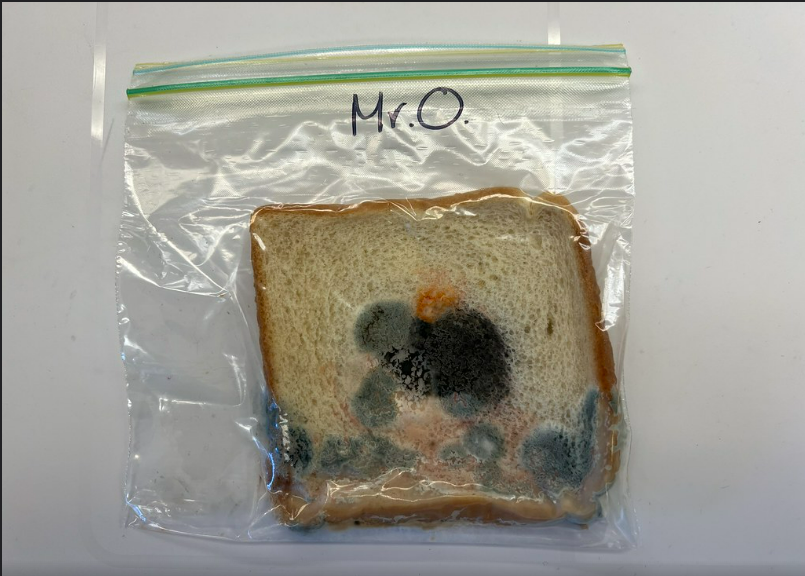mold_bread: (346, 287, 523, 421), (249, 389, 315, 501), (520, 422, 600, 508), (319, 431, 424, 486), (439, 427, 512, 493), (571, 380, 606, 424)
